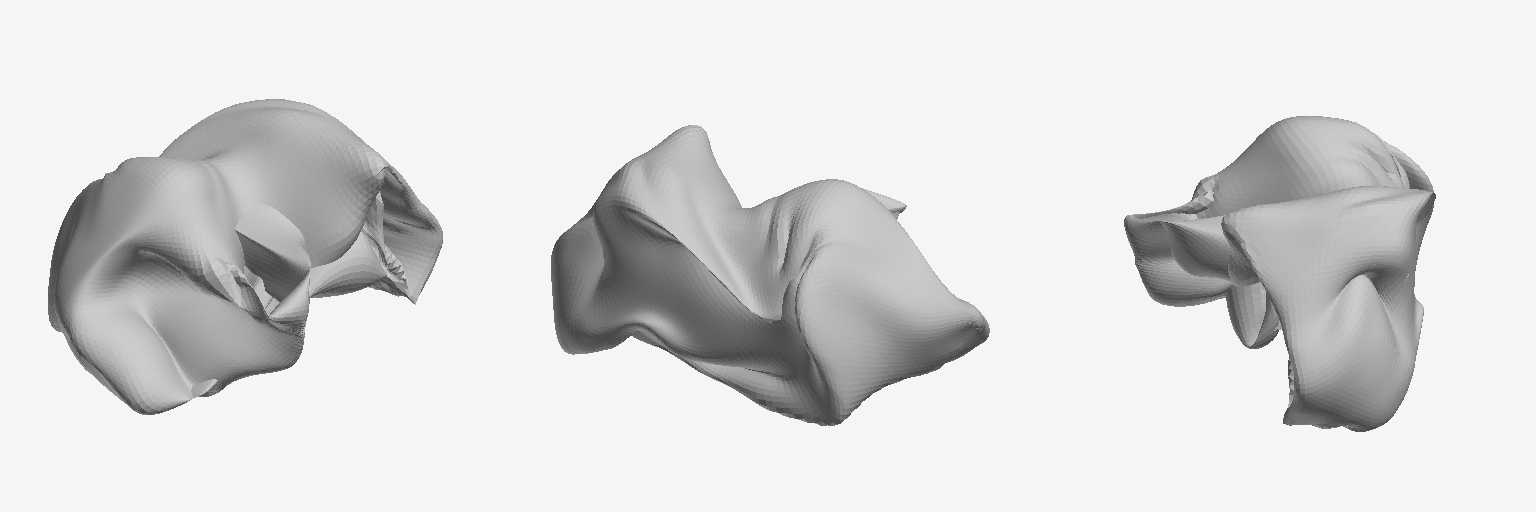
File: bathtowel.obj
3 views of the same model, side by side, from view 1: azimuth 30°, elevation 25°; view 2: azimuth 150°, elevation 25°; view 3: azimuth 270°, elevation 25° (orthographic).
Visible parts, largest first — view 1: Cube.019; view 2: Cube.019; view 3: Cube.019.
Boxes of the visible parts, x1,y1,x2,y2 form: Cube.019: [48, 99, 442, 414]; Cube.019: [551, 125, 989, 425]; Cube.019: [1124, 116, 1435, 431].
Size of the model in its own units: 0.1316 by 0.0634 by 0.0898.